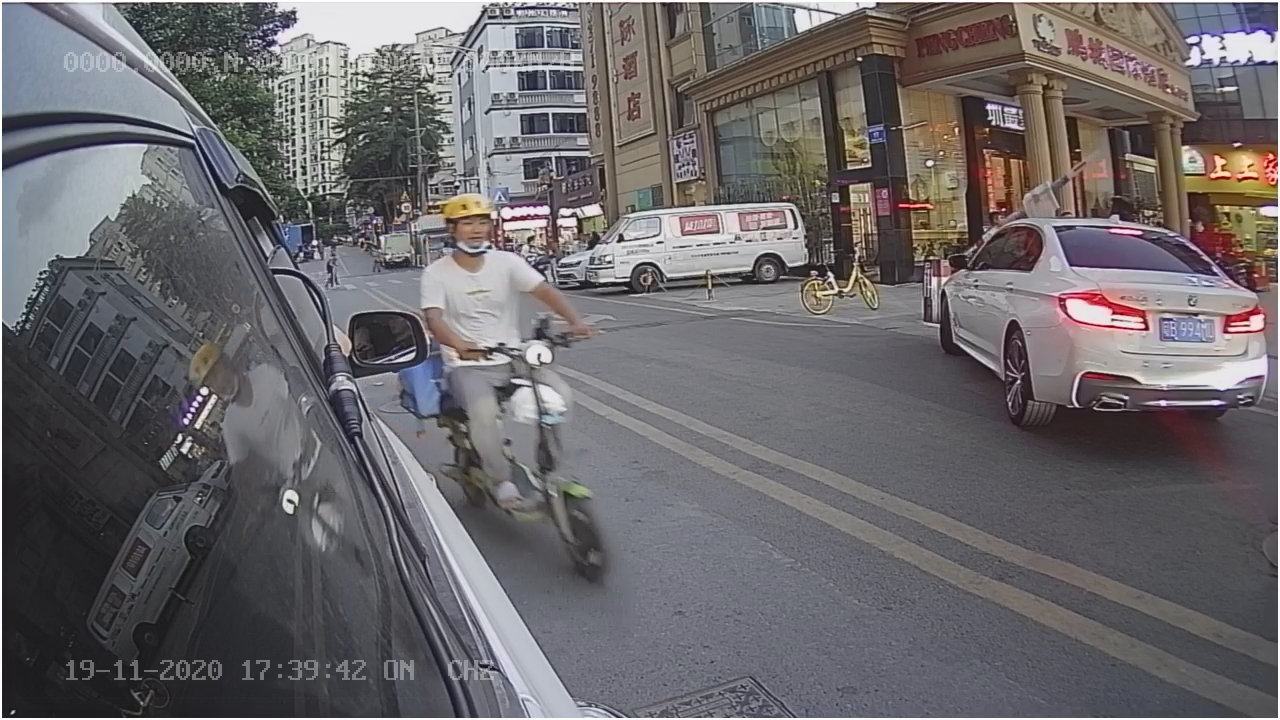person: (423, 202, 531, 344)
